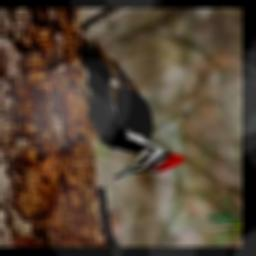Woodpecker: (79, 36, 183, 178)
